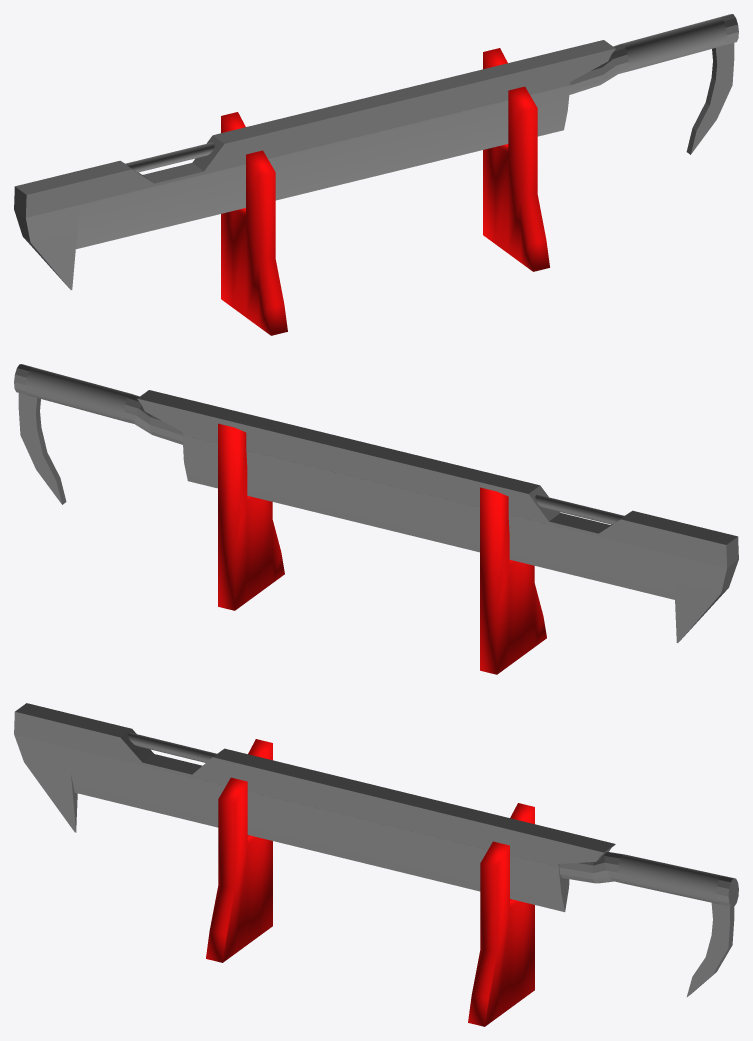
Rendered from Exicutioner blade on display.obj.
3 views of the same model, one above another, from view 1: azimuth 30°, elevation 25°; view 2: azimuth 150°, elevation 25°; view 3: azimuth 330°, elevation 25° (orthographic).
Visible parts, largest first — view 1: Exicutioners_blade, Box002, Box001; view 2: Exicutioners_blade, Box001, Box002; view 3: Exicutioners_blade, Box001, Box002.
Part boxes in pixels (x1=…): Exicutioners_blade: x1=14, y1=14, x2=738, y2=289; Box002: x1=483, y1=48, x2=549, y2=271; Box001: x1=221, y1=112, x2=287, y2=335; Exicutioners_blade: x1=14, y1=364, x2=738, y2=642; Box001: x1=480, y1=487, x2=546, y2=674; Box002: x1=218, y1=423, x2=284, y2=610; Exicutioners_blade: x1=14, y1=703, x2=738, y2=996; Box001: x1=206, y1=739, x2=272, y2=962; Box002: x1=468, y1=803, x2=534, y2=1026.
Size of the model in its own units: 400 by 98 by 48.57.
